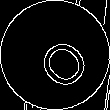O_NW: (22, 22, 88, 88)
